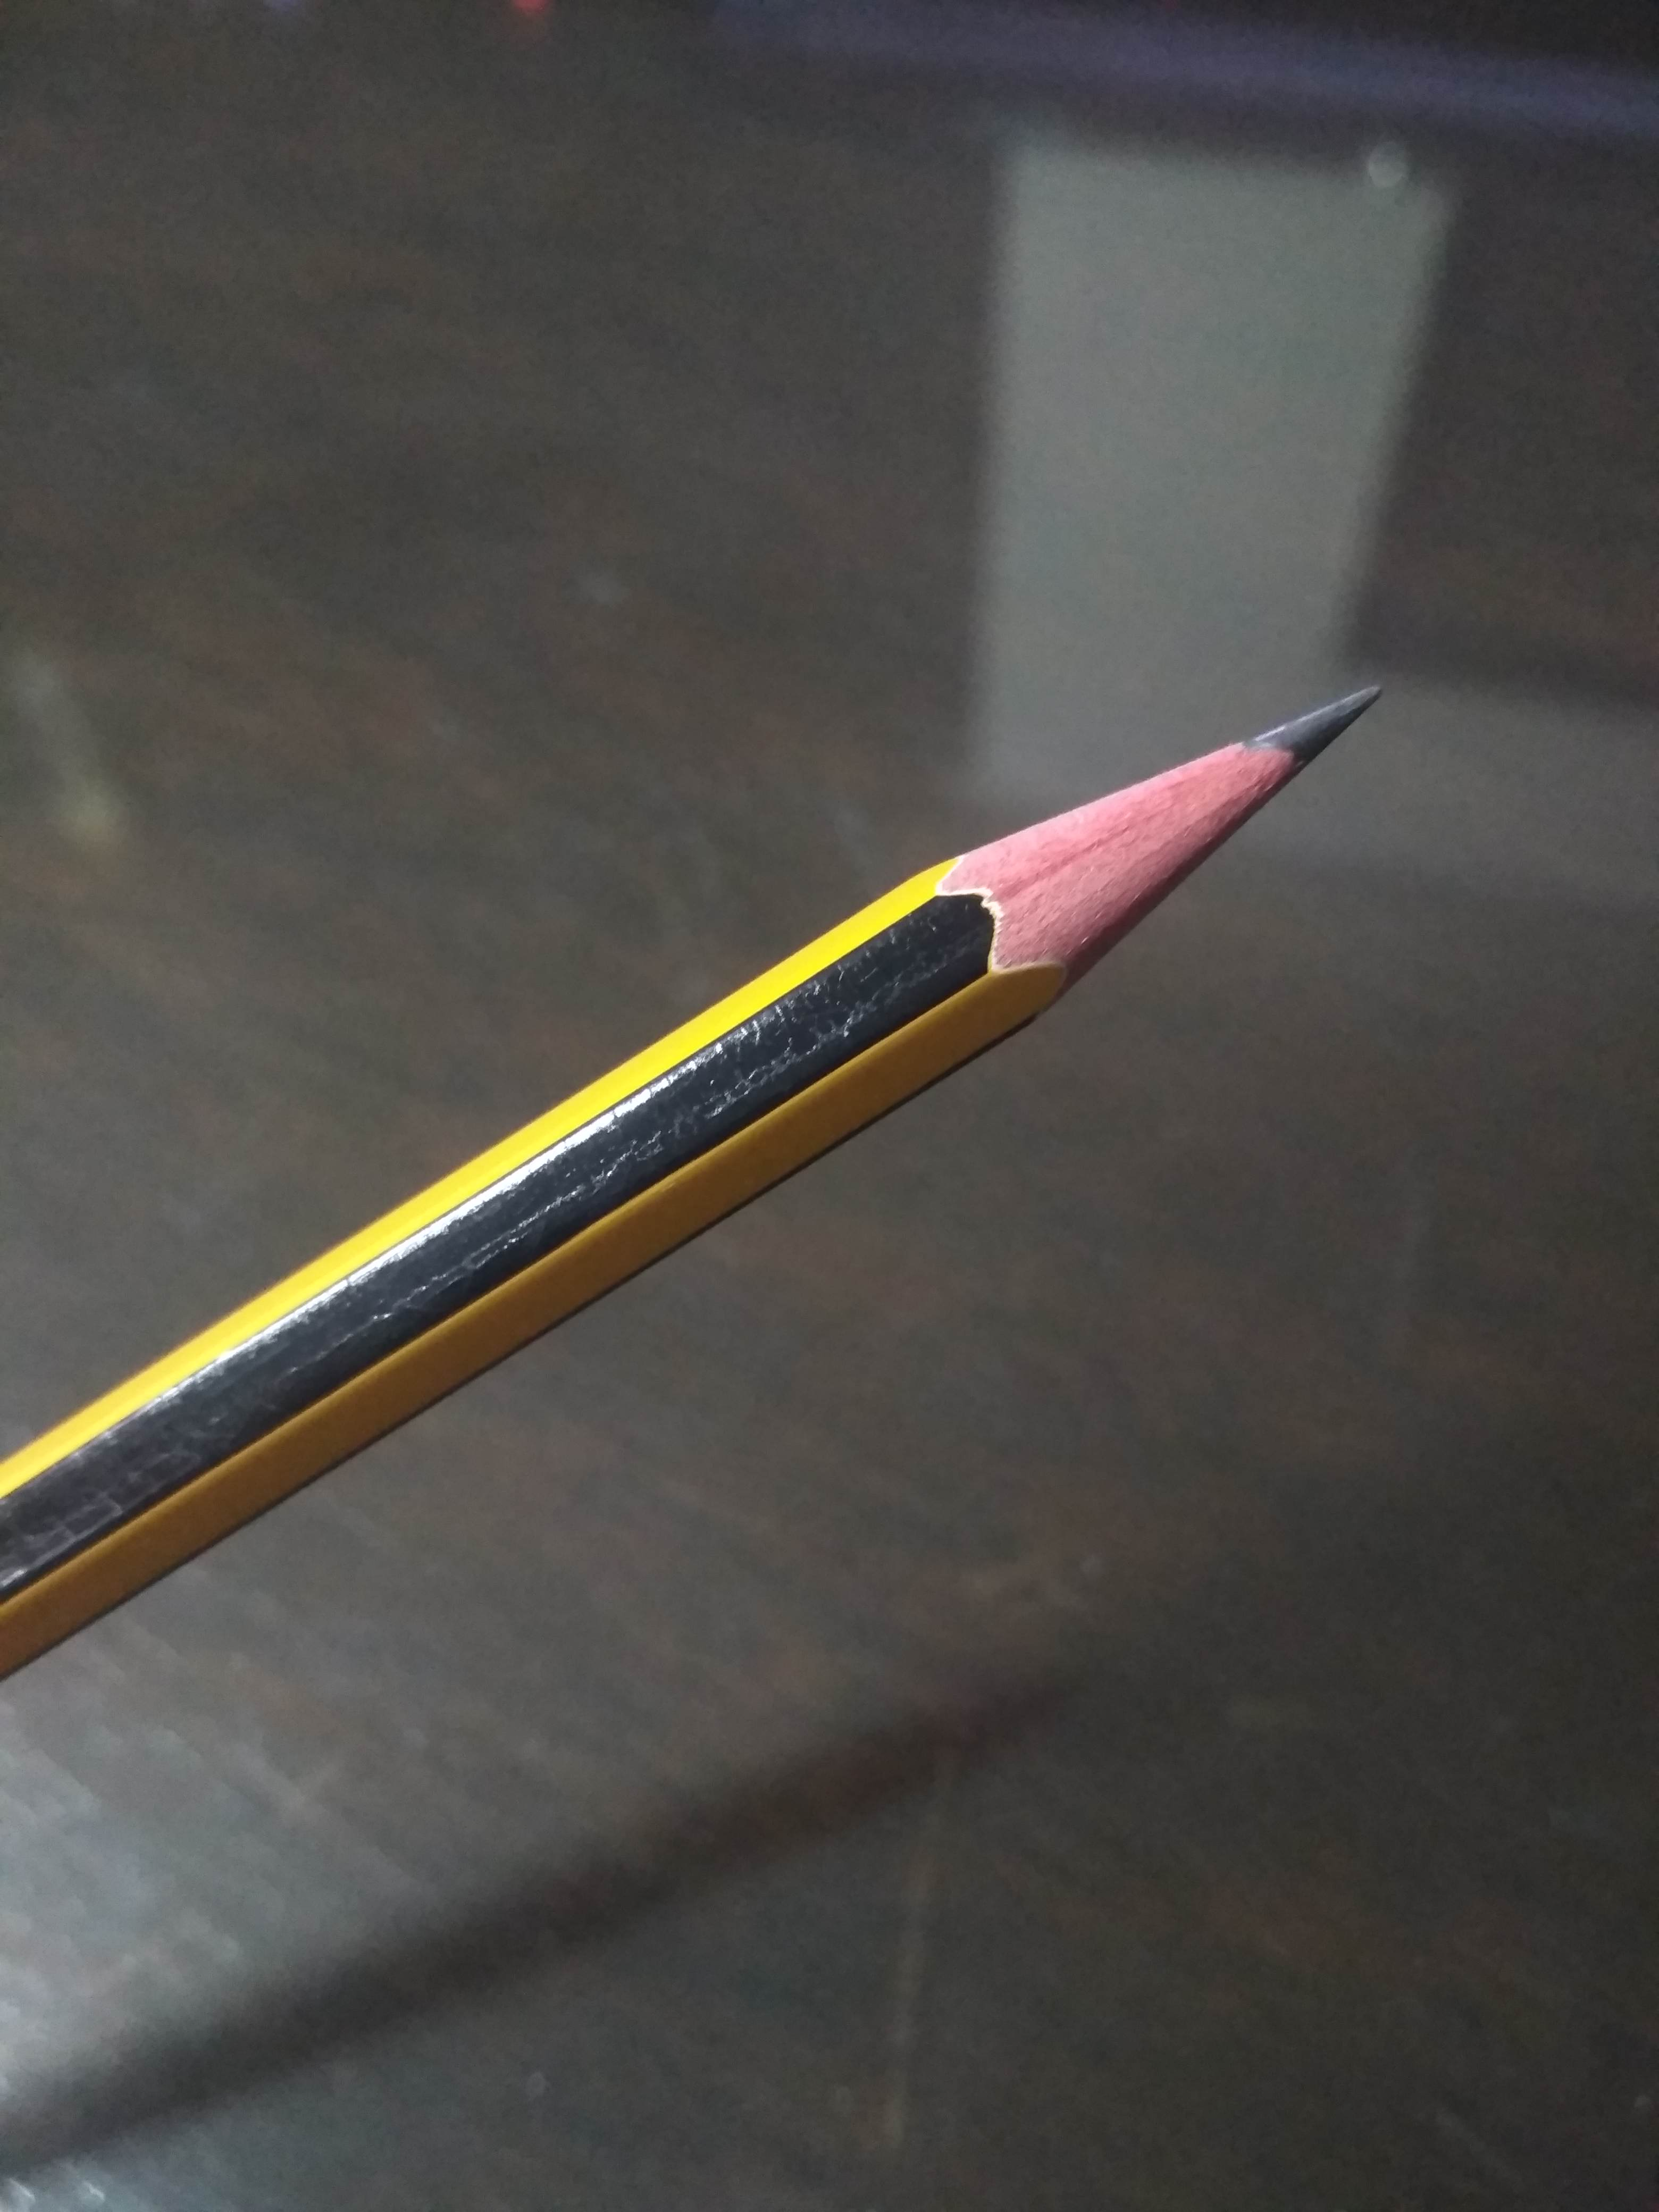pen_tip: (861, 531, 1474, 1137)
